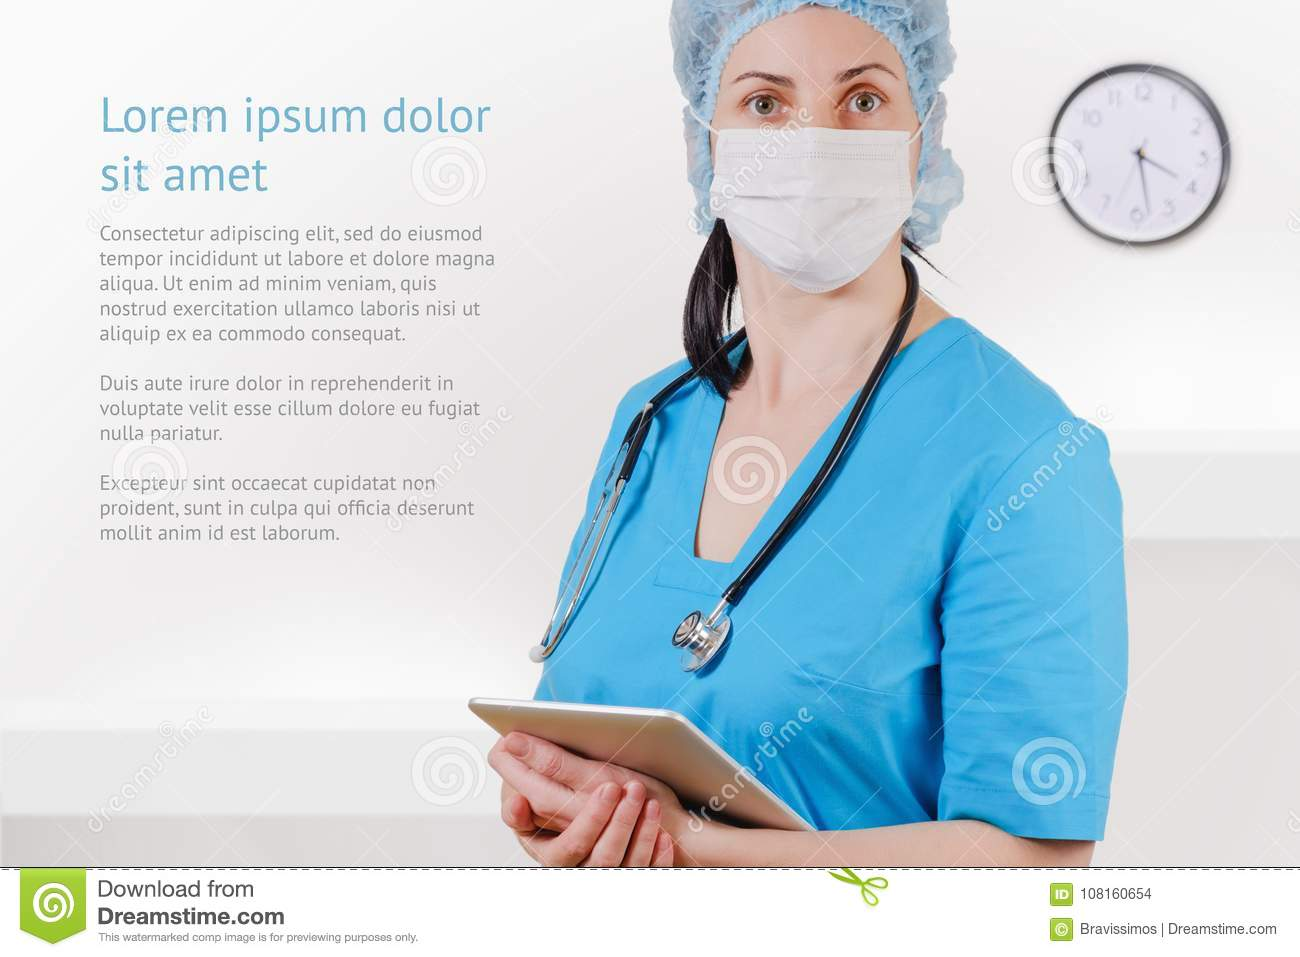mask: (703, 114, 926, 294)
